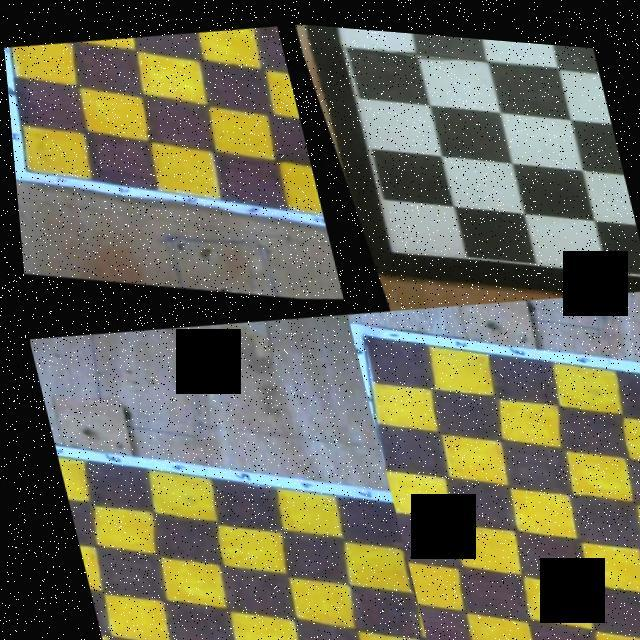chess-table-corners: (376, 248, 388, 260), (354, 332, 366, 342), (13, 178, 20, 183), (328, 262, 332, 268), (384, 508, 388, 512), (32, 43, 37, 46)
